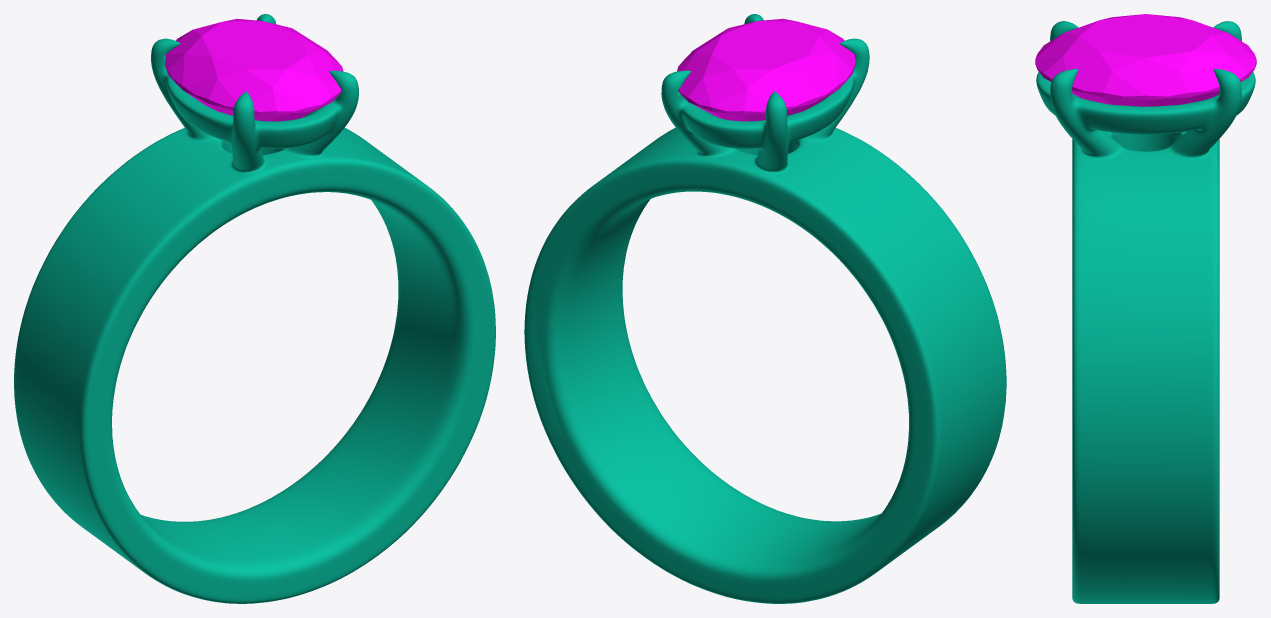
Rendered from BE1258_OV_200ct_RENDER.glb.
The picture shows the model from 3 angles, left to right: view 1: azimuth 30°, elevation 25°; view 2: azimuth 150°, elevation 25°; view 3: azimuth 270°, elevation 25°; orthographic projection. The views are drawn at different scales.
Visible parts, largest first — view 1: Metal 01, CS_Diamond_Oval; view 2: Metal 01, CS_Diamond_Oval; view 3: Metal 01, CS_Diamond_Oval.
Part boxes in pixels (left/top/right/bottom): Metal 01: left=14, top=14, right=495, bottom=603; CS_Diamond_Oval: left=165, top=18, right=343, bottom=121; Metal 01: left=524, top=14, right=1006, bottom=603; CS_Diamond_Oval: left=677, top=18, right=855, bottom=121; Metal 01: left=1036, top=21, right=1255, bottom=603; CS_Diamond_Oval: left=1035, top=14, right=1256, bottom=106.
Bounding box in the file's own units: 20.1 × 24.45 × 9.
